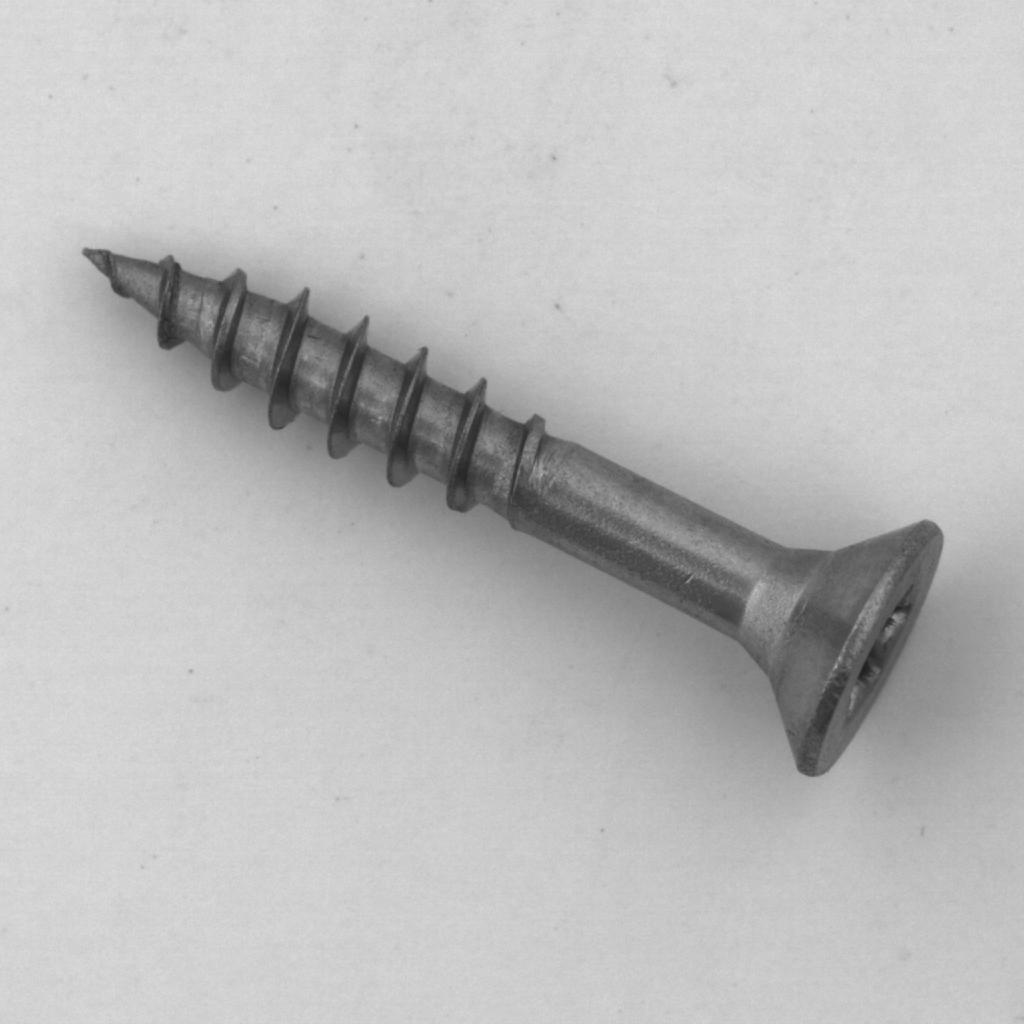good: (64, 211, 966, 792)
